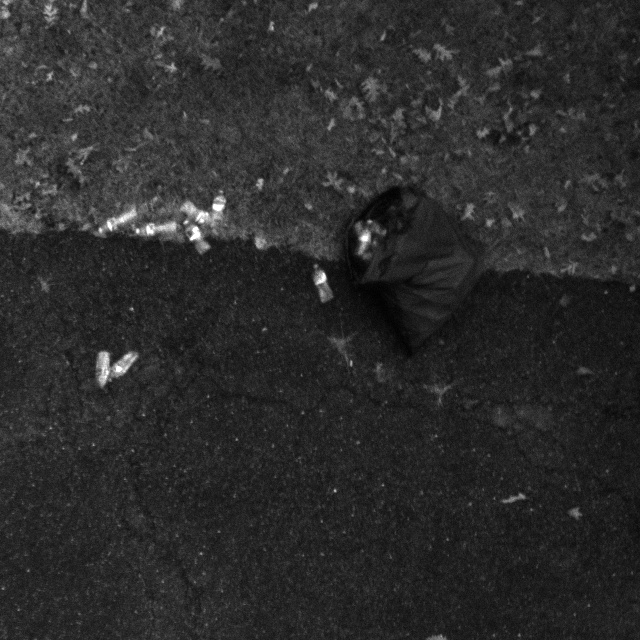bottle: (306, 252, 339, 314), (94, 200, 141, 240), (109, 342, 139, 388), (132, 212, 180, 240), (204, 180, 232, 226), (91, 345, 116, 395), (182, 218, 206, 257), (172, 202, 213, 224)
